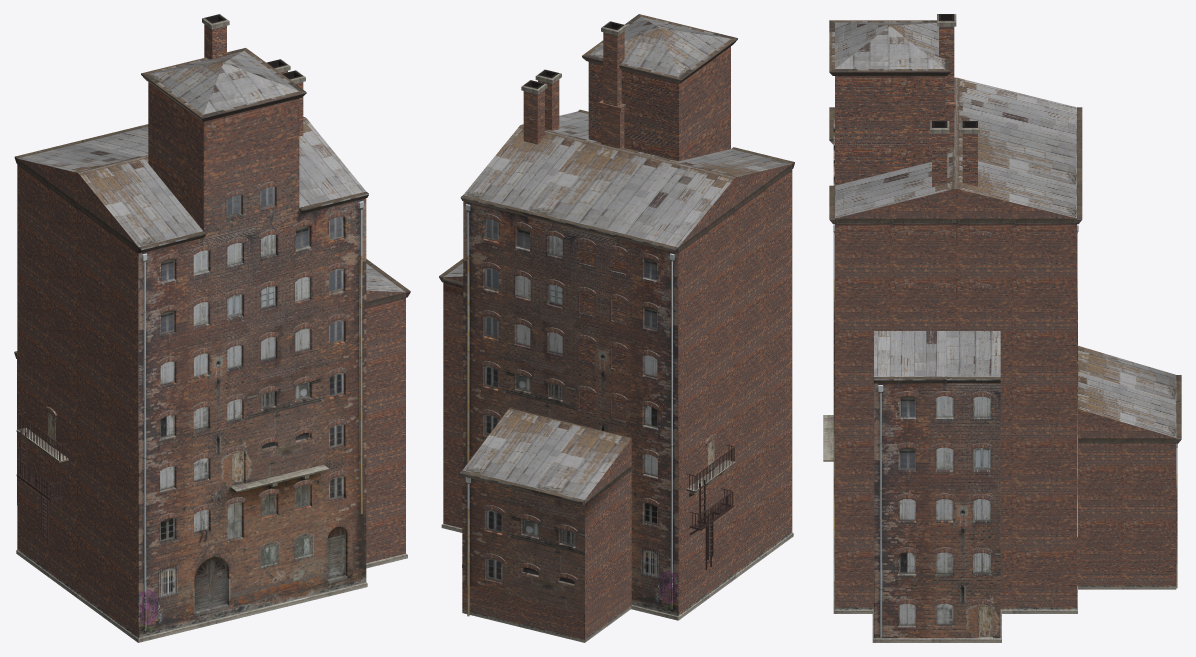
Rendered from K_Building B_09.fbx.
The picture shows the model from 3 angles, left to right: view 1: azimuth 30°, elevation 25°; view 2: azimuth 150°, elevation 25°; view 3: azimuth 270°, elevation 25°; orthographic projection. The views are drawn at different scales.
Visible parts, largest first — view 1: K_Building B_09; view 2: K_Building B_09; view 3: K_Building B_09.
Part boxes in pixels (left/top/right/bottom): K_Building B_09: left=14, top=14, right=410, bottom=642; K_Building B_09: left=439, top=14, right=794, bottom=642; K_Building B_09: left=823, top=14, right=1181, bottom=642.
Size of the model in its own units: 1887 by 3262 by 1922.
